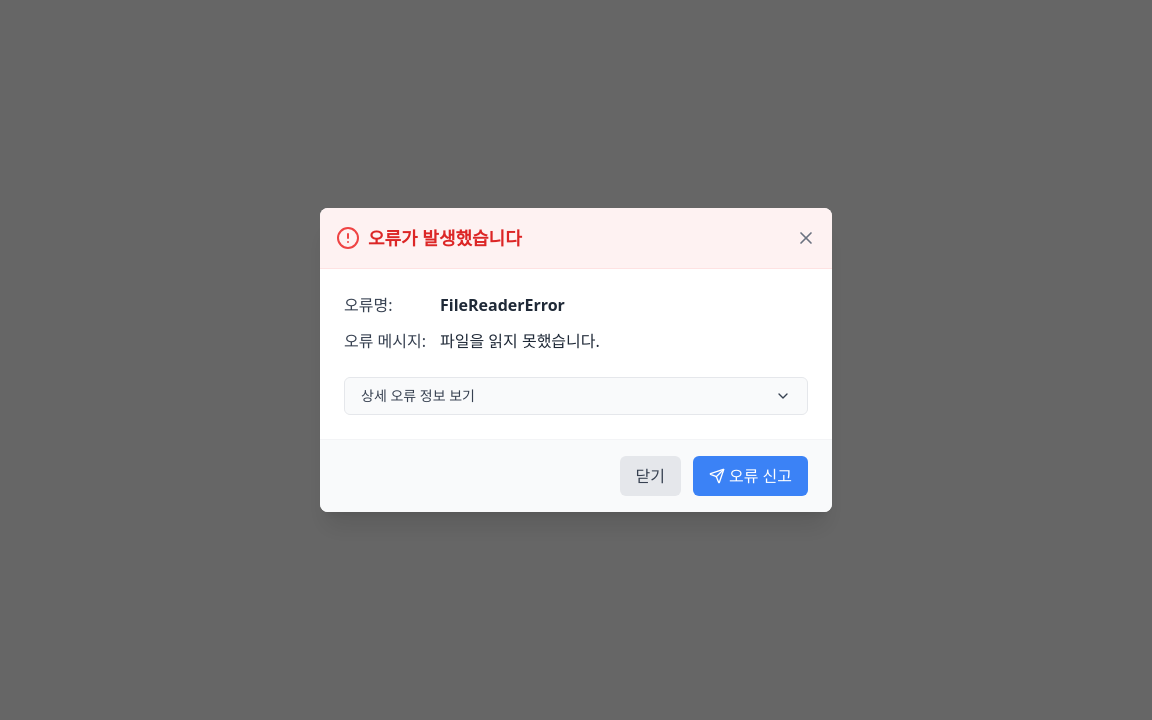
it: ErrorModal › prevents duplicate reports while the first request is pending
This screenshot has width=1152, height=720.
Click the button "오류 신고". click: (750, 476)
box: [693, 456, 808, 496]
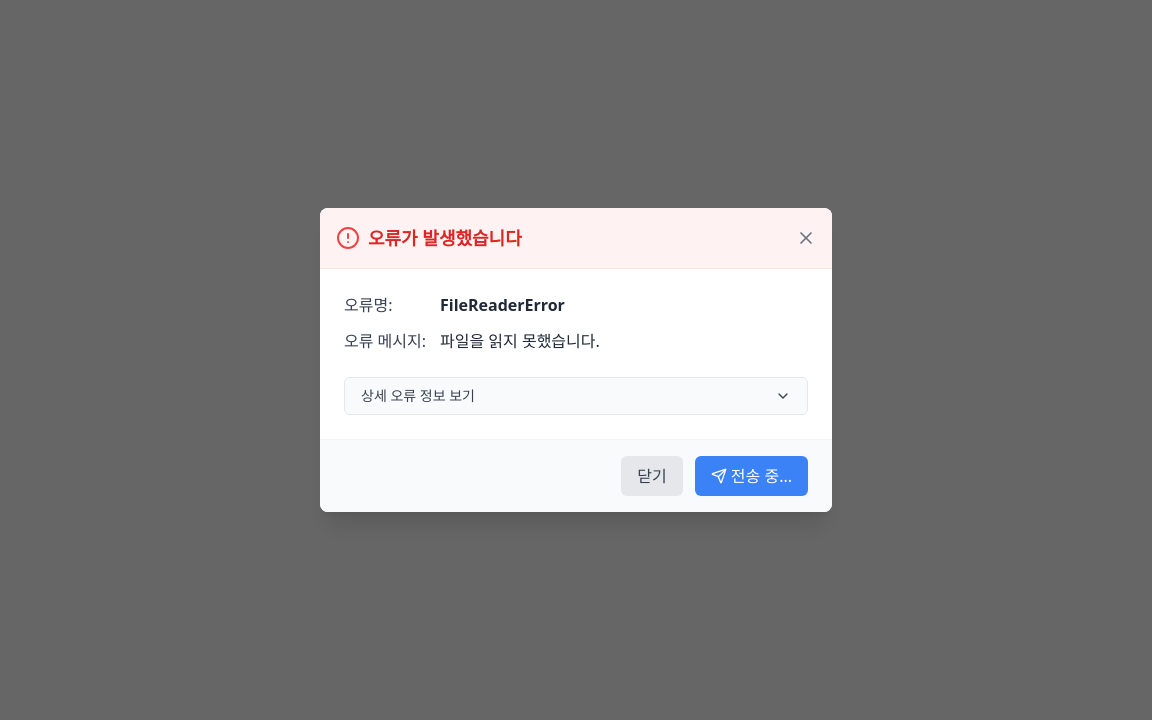
Expected: the button "전송 중..." is disabled
Click the button "전송 중...". click: (751, 476)
box: [695, 456, 808, 496]
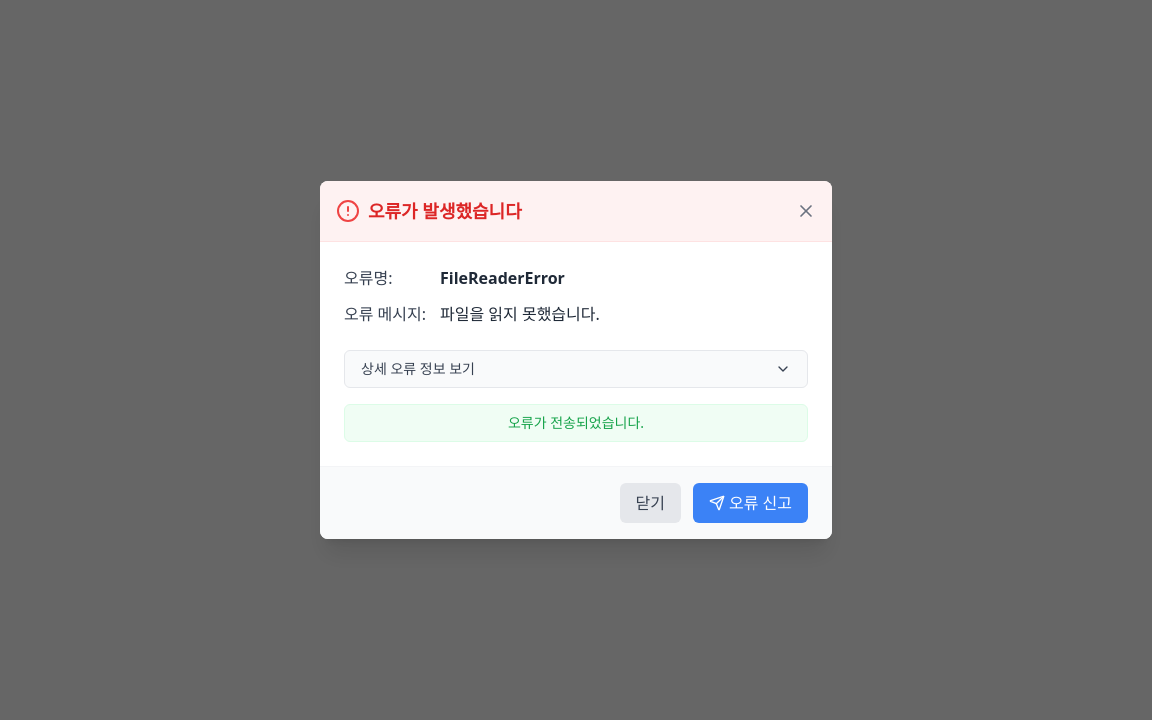
Expected: the text "오류가 전송되었습니다." is shown, [344, 404, 808, 442]
